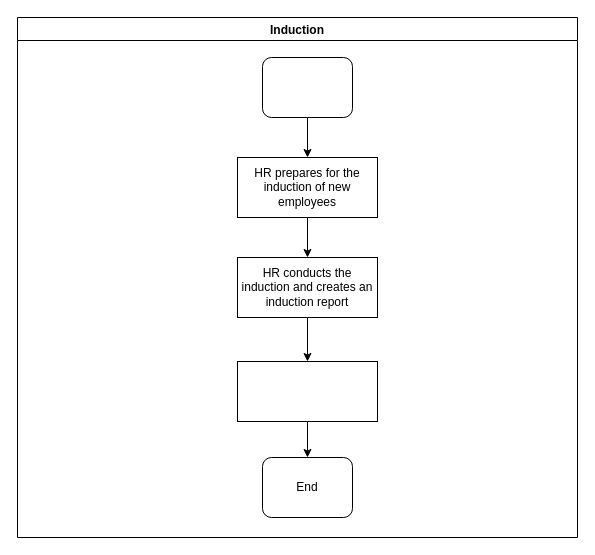
Some shapes in this 595 by 555 pixel diagram are drawn without their labels. The box of each missing label's shape, as (x1, y1, x2, y2) in pixels:
HR uploads induction report in the system: (236, 360, 378, 422)
Start: (262, 56, 352, 118)
